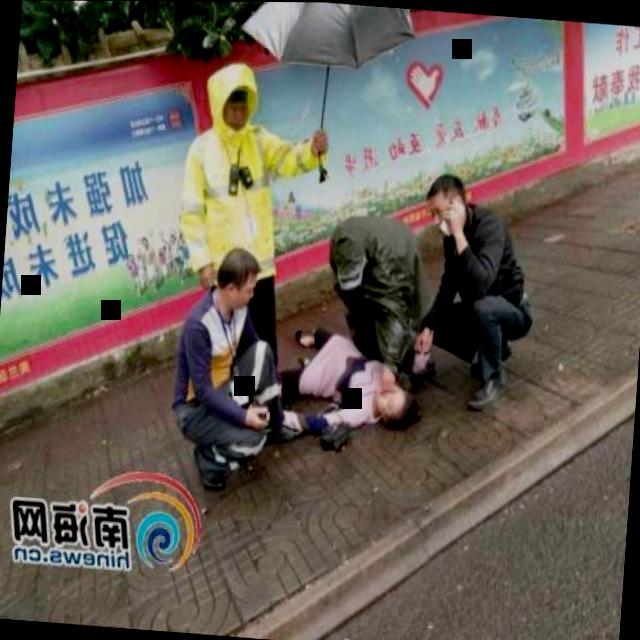Fall-Detected: (257, 307, 440, 460)
